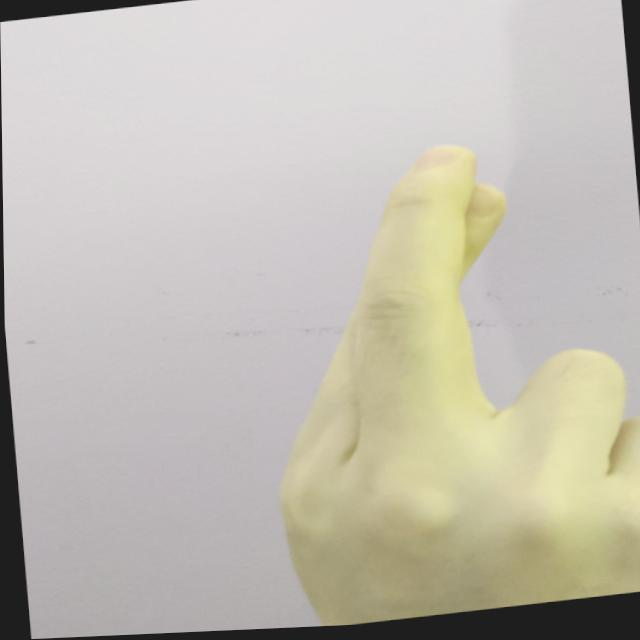R: (239, 116, 639, 631)
